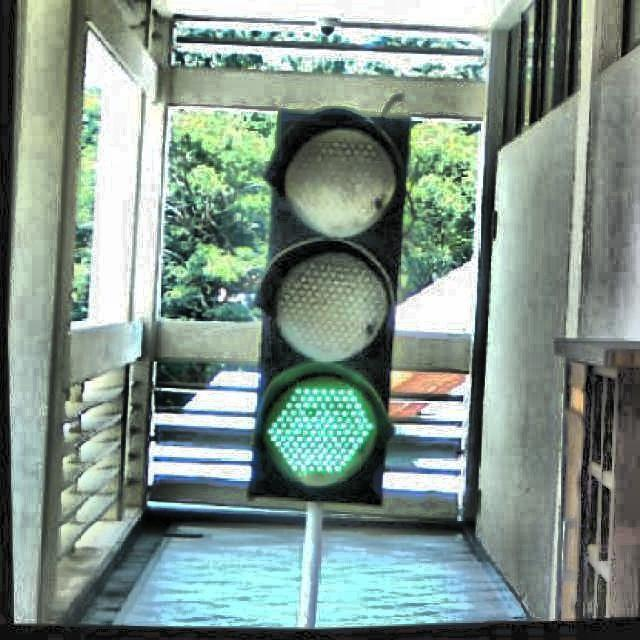green: (249, 114, 399, 508)
